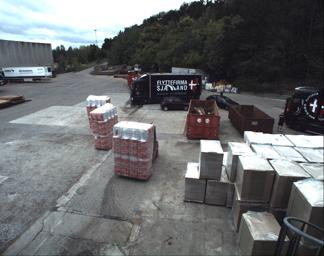rockwool_batts: (112, 120, 152, 178), (87, 101, 117, 147), (86, 93, 111, 117)
